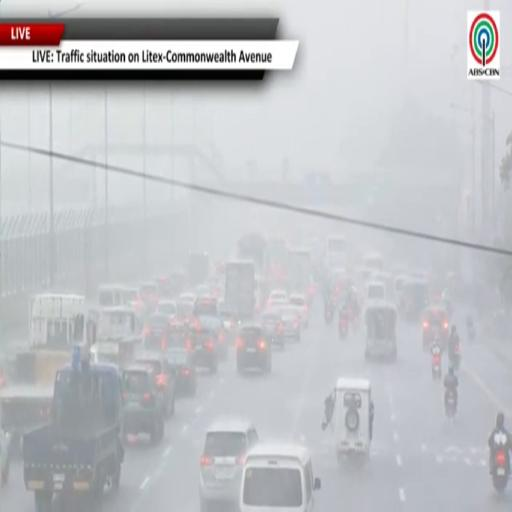car: (238, 443, 320, 511), (199, 418, 258, 511), (122, 364, 165, 443), (136, 352, 176, 418), (237, 324, 272, 374), (188, 317, 218, 374), (191, 315, 229, 360), (166, 347, 196, 396), (144, 313, 171, 351), (261, 310, 285, 347), (279, 304, 300, 342), (289, 294, 309, 328), (176, 293, 196, 325), (139, 282, 159, 311), (192, 295, 218, 316), (365, 281, 386, 301), (266, 289, 288, 308), (156, 299, 177, 318)
motorcycle: (491, 448, 509, 492), (445, 388, 457, 419), (450, 342, 460, 371), (348, 308, 360, 331), (339, 313, 348, 339), (432, 354, 441, 379), (324, 306, 333, 325), (468, 323, 475, 341)
truck: (23, 348, 124, 511), (0, 294, 95, 451), (224, 261, 255, 321), (96, 307, 143, 344), (237, 232, 267, 273), (288, 248, 311, 295), (186, 252, 210, 286)
